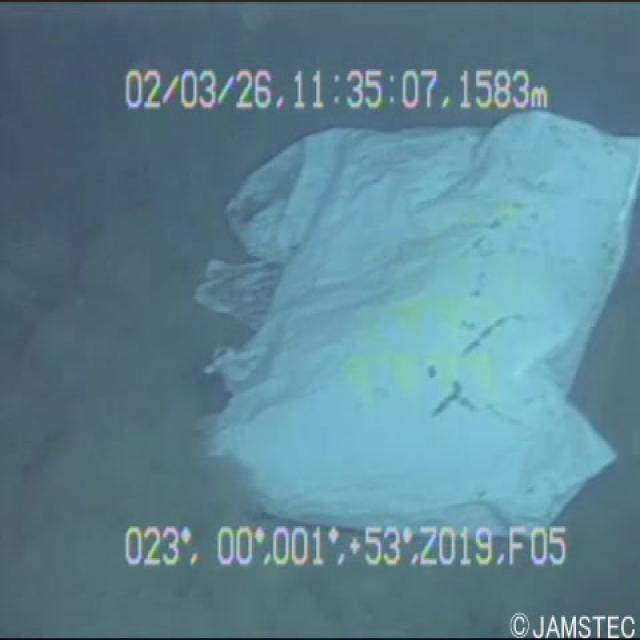plastic: (185, 57, 639, 533)
